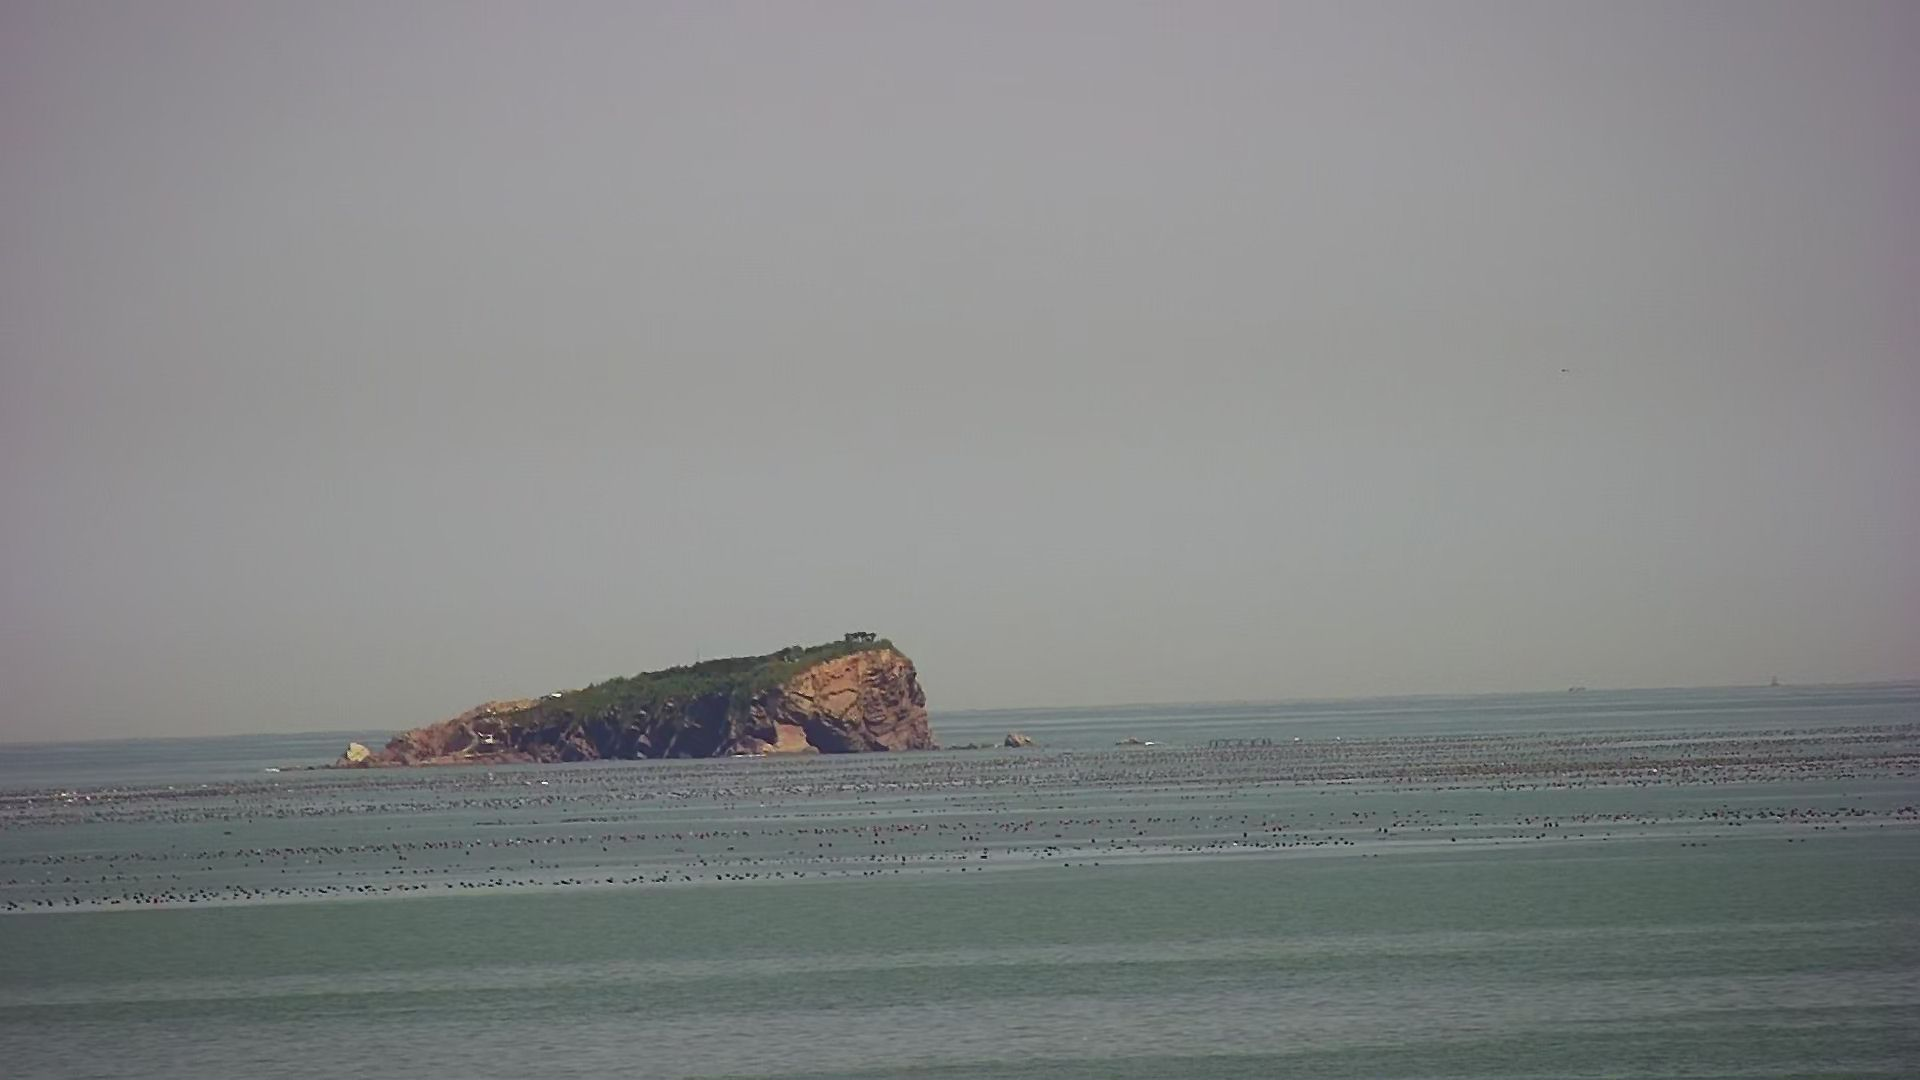rock: (301, 626, 942, 769), (996, 724, 1038, 752)
